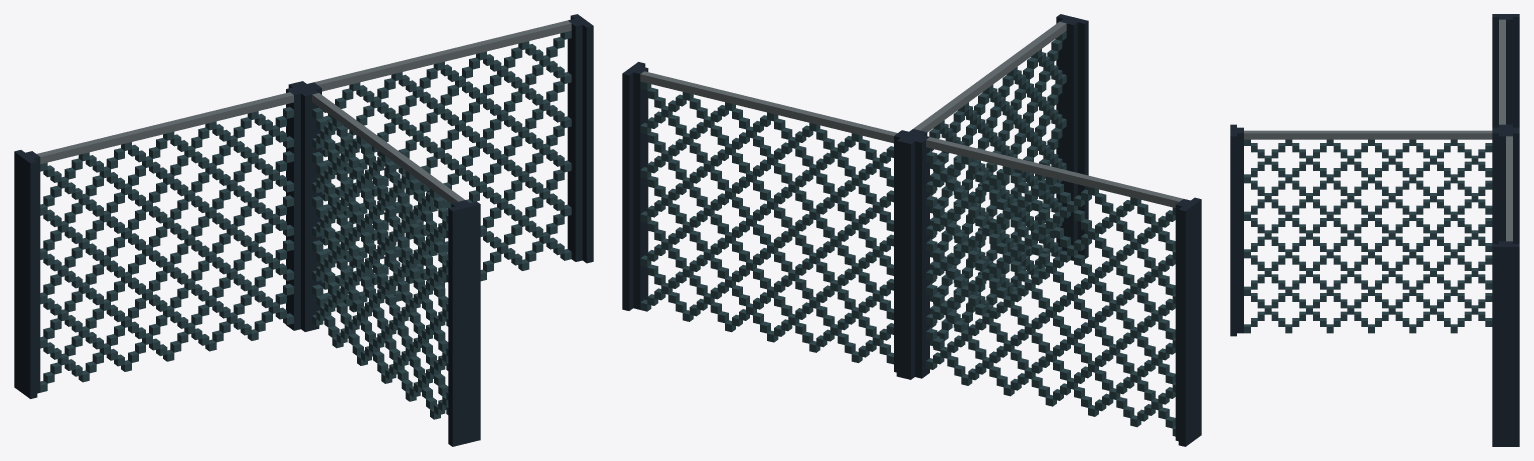
File: wall3_t2.obj
The picture shows the model from 3 angles, left to right: view 1: azimuth 30°, elevation 25°; view 2: azimuth 150°, elevation 25°; view 3: azimuth 270°, elevation 25°; orthographic projection. The views are drawn at different scales.
Size of the model in its own units: 8 by 3.2 by 4.2.
Materials: 1 (1 with a texture image).
